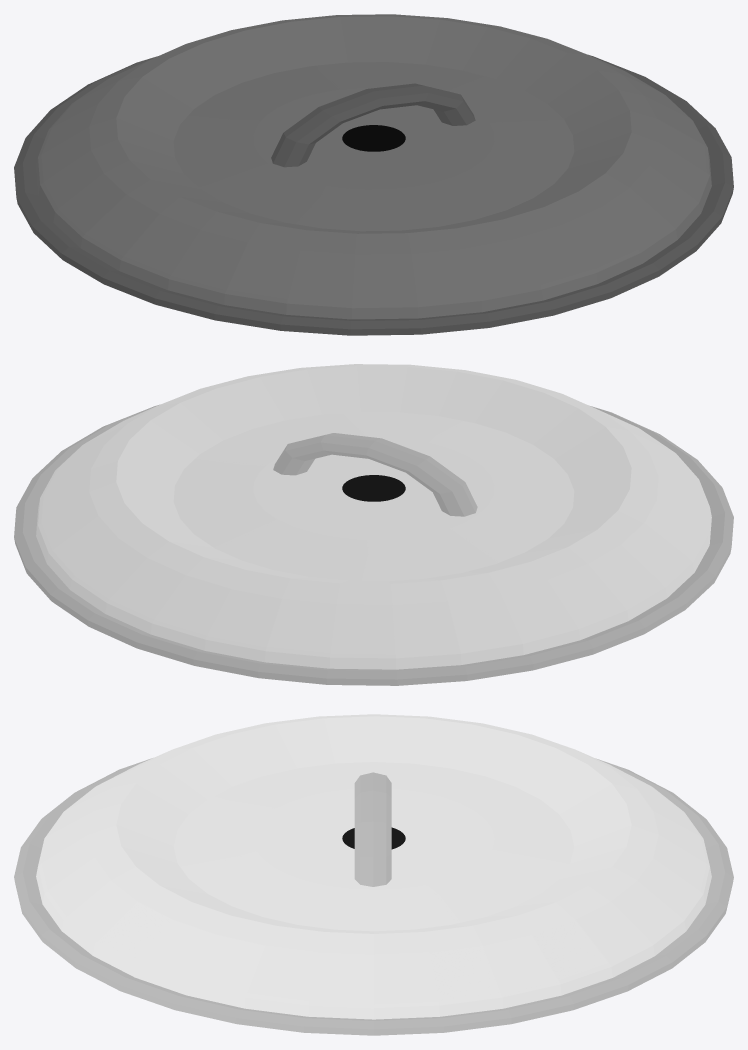
The model's file is PotLid_0f7a78bf.obj.
3 views of the same model, one above another, from view 1: azimuth 30°, elevation 25°; view 2: azimuth 150°, elevation 25°; view 3: azimuth 270°, elevation 25° (orthographic).
Visible parts, largest first — view 1: PotLid_0f7a78bf; view 2: PotLid_0f7a78bf; view 3: PotLid_0f7a78bf.
Part boxes in pixels (bbox=[...]): PotLid_0f7a78bf: bbox=[14, 14, 733, 335]; PotLid_0f7a78bf: bbox=[14, 364, 733, 685]; PotLid_0f7a78bf: bbox=[14, 714, 733, 1035].
Bounding box in the file's own units: 0.2314 × 0.0331 × 0.2314.
